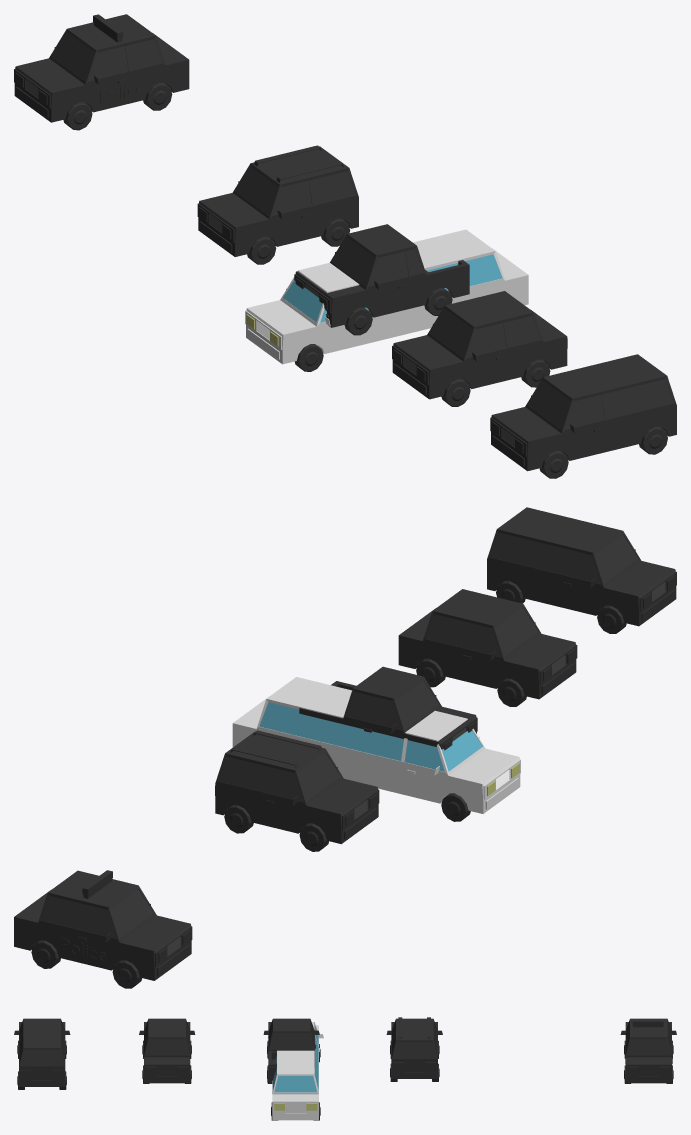
File: Car.fbx
The picture shows the model from 3 angles, top to bottom: view 1: azimuth 30°, elevation 25°; view 2: azimuth 150°, elevation 25°; view 3: azimuth 270°, elevation 25°; orthographic projection. The views are drawn at different scales.
Visible parts, largest first — view 1: Van, Police, Gray, Car, SUV, Pickup; view 2: Gray, Van, Police, Car, SUV, Pickup; view 3: Gray, Van, Police, Car, SUV, Pickup.
Boxes of the visible parts, bbox=[...] form: Van: bbox=[490, 354, 676, 478]; Police: bbox=[14, 14, 189, 130]; Gray: bbox=[245, 229, 528, 371]; Car: bbox=[392, 291, 567, 406]; SUV: bbox=[197, 145, 358, 264]; Pickup: bbox=[294, 224, 469, 335]; Gray: bbox=[232, 677, 520, 821]; Van: bbox=[487, 507, 676, 633]; Police: bbox=[14, 870, 192, 988]; Car: bbox=[398, 589, 577, 706]; SUV: bbox=[215, 730, 379, 851]; Pickup: bbox=[299, 666, 477, 750]; Gray: bbox=[267, 1022, 323, 1120]; Van: bbox=[14, 1018, 70, 1089]; Police: bbox=[620, 1018, 676, 1083]; Car: bbox=[139, 1018, 195, 1083]; SUV: bbox=[386, 1017, 442, 1081]; Pickup: bbox=[263, 1018, 319, 1083].
Bounding box in the file's own units: 592 × 248 × 2135.
